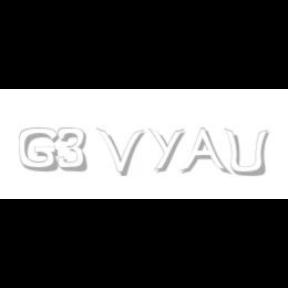3: (57, 128, 88, 172)
A: (180, 128, 228, 176)
G: (19, 128, 59, 172)
U: (224, 128, 268, 178)
V: (97, 128, 145, 176)
y: (148, 128, 188, 172)
